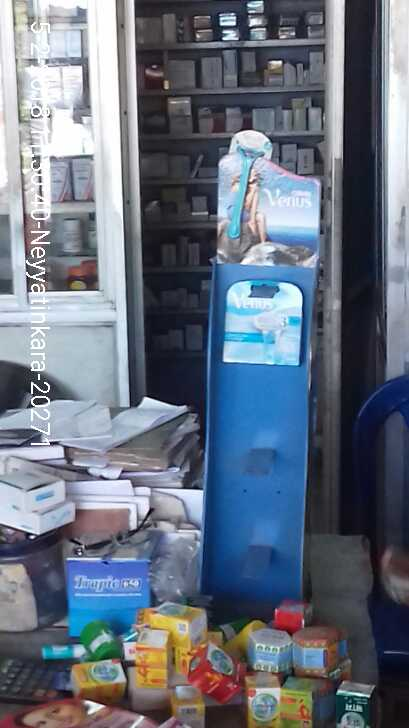venus: (216, 270, 306, 377)
